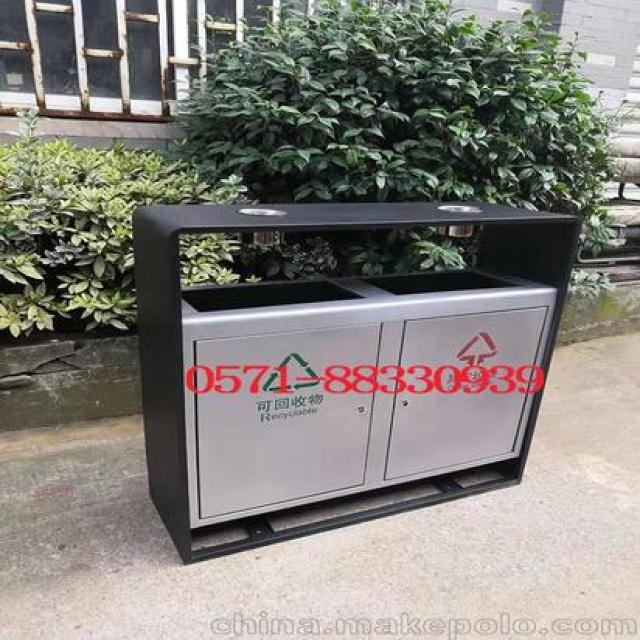garbage_bin: (132, 200, 581, 565)
